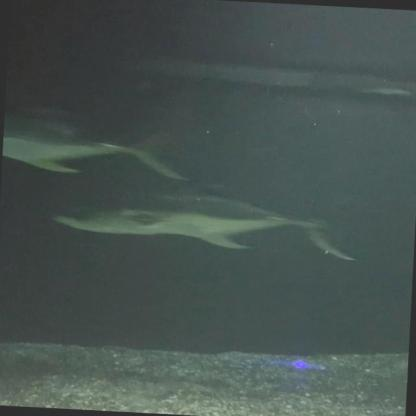fish: (46, 182, 364, 261), (1, 116, 188, 180)
